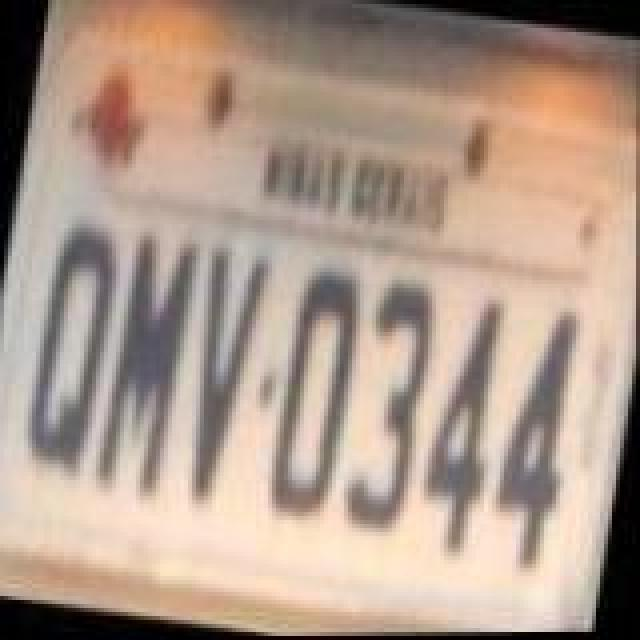3: (334, 272, 438, 540)
4: (486, 300, 590, 576), (412, 290, 512, 558)
M: (90, 222, 198, 498)
O: (264, 258, 368, 526)
Q: (16, 222, 120, 482)
V: (170, 244, 270, 504)
